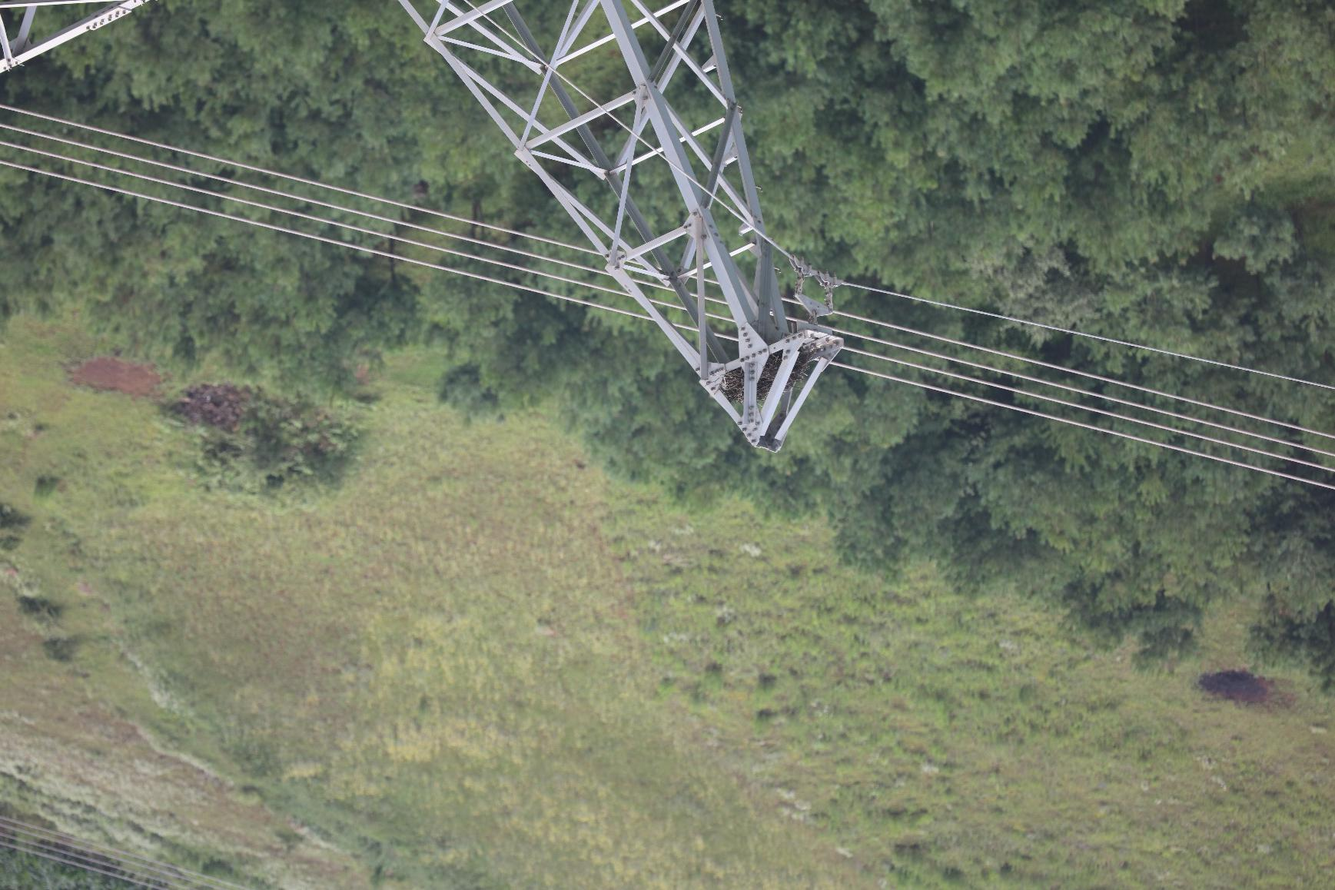nest: (721, 347, 813, 403)
